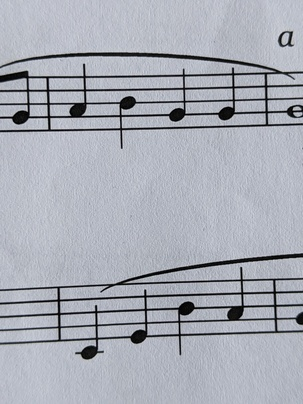A: (63, 61, 92, 137), (225, 267, 249, 342)
B: (171, 278, 197, 361), (115, 70, 139, 152)
E: (128, 282, 152, 348)
G: (215, 64, 239, 135), (166, 67, 189, 135)
LC: (71, 280, 108, 367)
